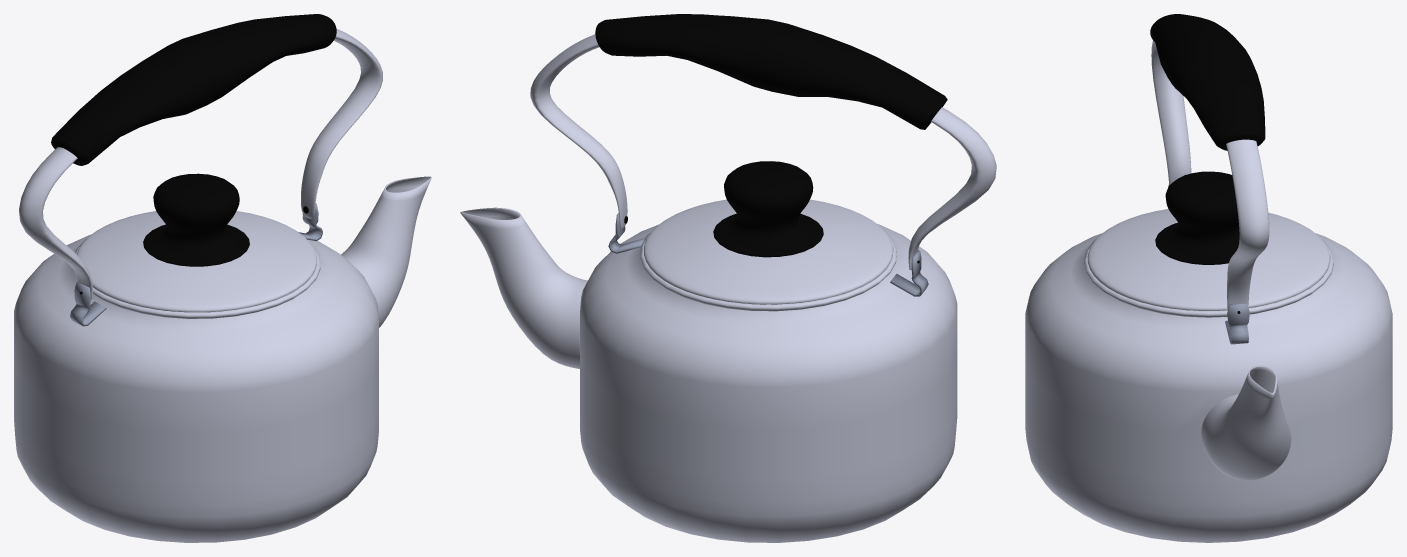
The model's file is bouilloir.glb.
3 renders of one model, left to right at view 1: azimuth 30°, elevation 25°; view 2: azimuth 150°, elevation 25°; view 3: azimuth 270°, elevation 25°, orthographic. The views are drawn at different scales.
Visible parts, largest first — view 1: kettle, Cylinder, Circle.003, Circle.004, Cube, Circle.002, Plane; view 2: kettle, Cylinder, Circle.003, Circle.002, Circle.004, Cube, Plane; view 3: kettle, Circle.003, Cylinder, Cube, Circle.002, Circle.004, Plane.
Part boxes in pixels (left/top/right/bottom): kettle: left=14, top=234, right=378, bottom=542; Cylinder: left=51, top=14, right=336, bottom=165; Circle.003: left=77, top=211, right=316, bottom=312; Circle.004: left=143, top=173, right=249, bottom=266; Cube: left=19, top=29, right=382, bottom=299; Circle.002: left=341, top=176, right=431, bottom=327; Plane: left=70, top=203, right=322, bottom=326; kettle: left=580, top=224, right=957, bottom=542; Cylinder: left=595, top=14, right=947, bottom=129; Circle.003: left=644, top=199, right=893, bottom=304; Circle.002: left=460, top=207, right=587, bottom=368; Circle.004: left=713, top=161, right=823, bottom=257; Cube: left=530, top=34, right=996, bottom=269; Plane: left=608, top=213, right=928, bottom=296; kettle: left=1025, top=233, right=1392, bottom=542; Circle.003: left=1087, top=209, right=1330, bottom=310; Cylinder: left=1150, top=14, right=1265, bottom=150; Cube: left=1151, top=40, right=1269, bottom=310; Circle.002: left=1201, top=365, right=1291, bottom=480; Circle.004: left=1155, top=171, right=1239, bottom=264; Plane: left=1168, top=185, right=1249, bottom=344.
Size of the model in its own units: 0.4091 by 0.3728 by 0.279.
